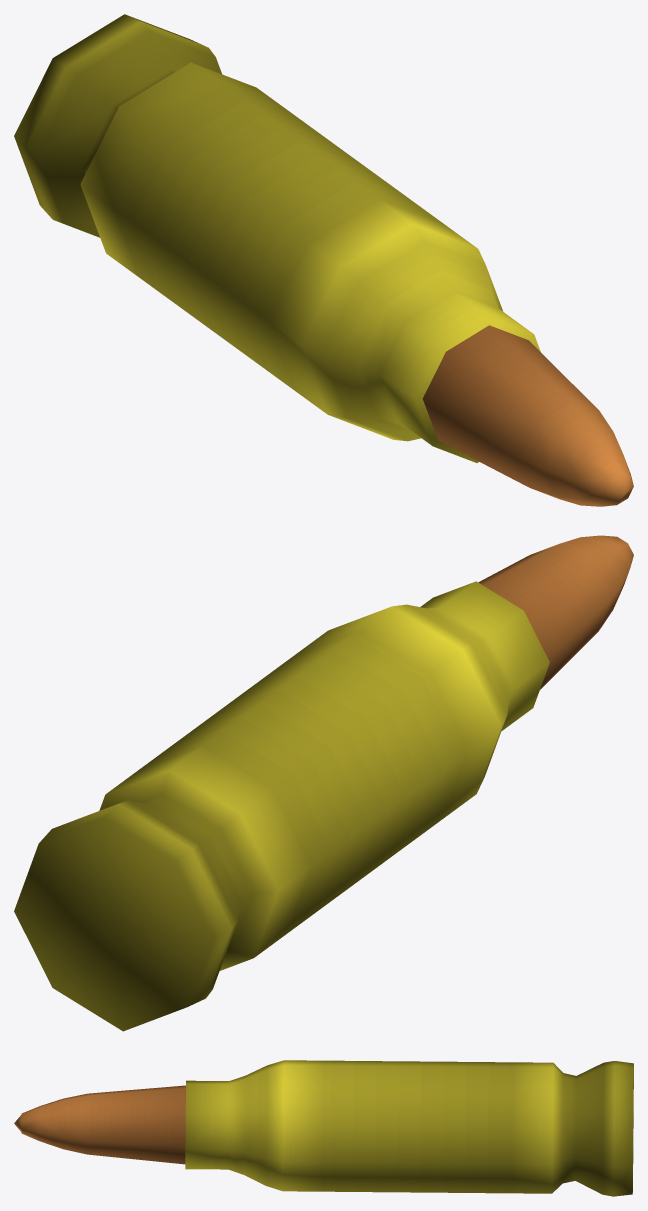
Rendered from attack_metralha.fbx.
3 renders of one model, top to bottom at view 1: azimuth 30°, elevation 25°; view 2: azimuth 150°, elevation 25°; view 3: azimuth 270°, elevation 25°, orthographic. The views are drawn at different scales.
Parts seen in each view (by area): view 1: mesh_762x39mm_2; view 2: mesh_762x39mm_2; view 3: mesh_762x39mm_2.
Part boxes in pixels (left/top/right/bottom): mesh_762x39mm_2: left=14, top=14, right=633, bottom=506; mesh_762x39mm_2: left=14, top=535, right=633, bottom=1031; mesh_762x39mm_2: left=14, top=1060, right=633, bottom=1196.
Size of the model in its own units: 4.83 by 4.83 by 20.63.
1 material, 1 textured.
